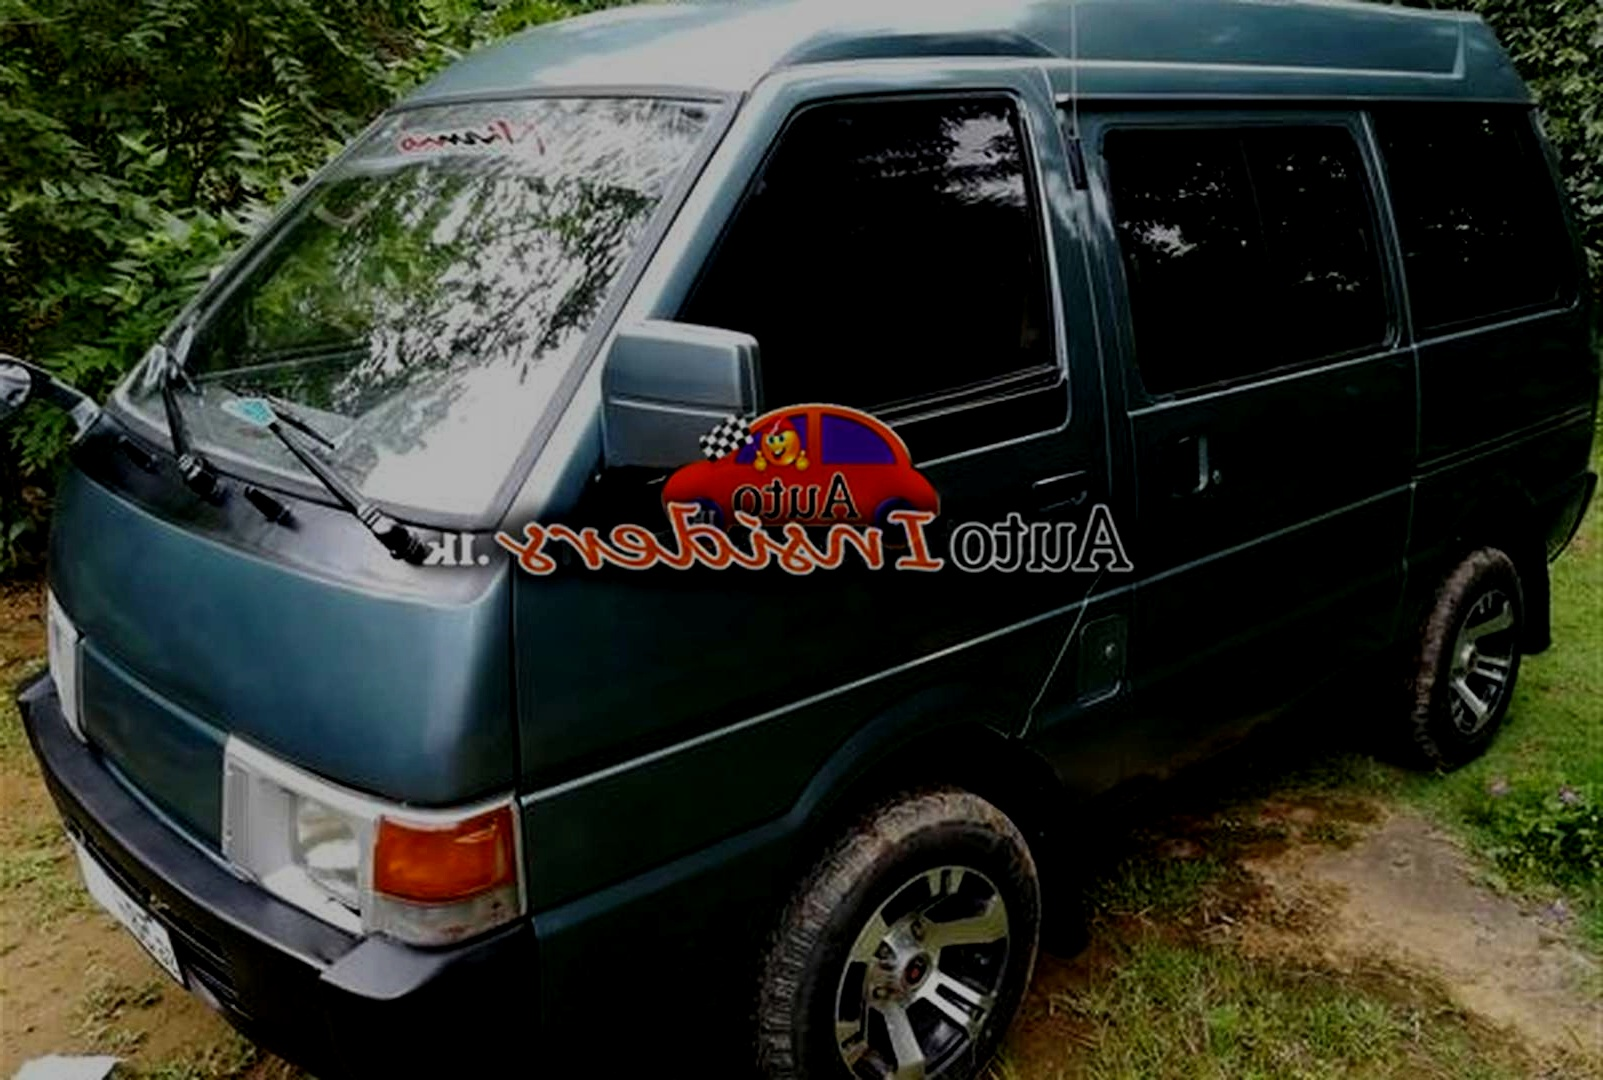van: (0, 0, 1592, 1050)
